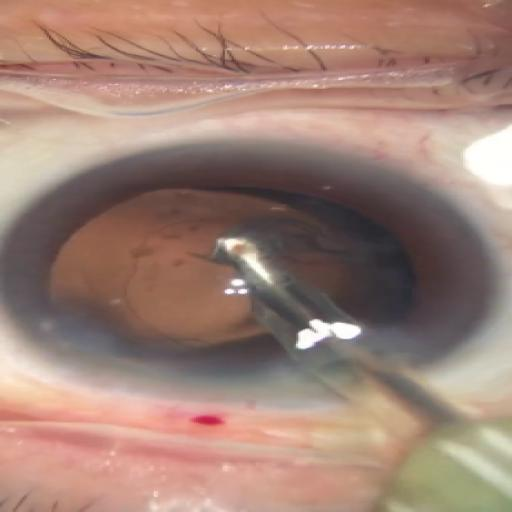cornea: (11, 141, 495, 400)
pupil: (51, 186, 407, 375)
